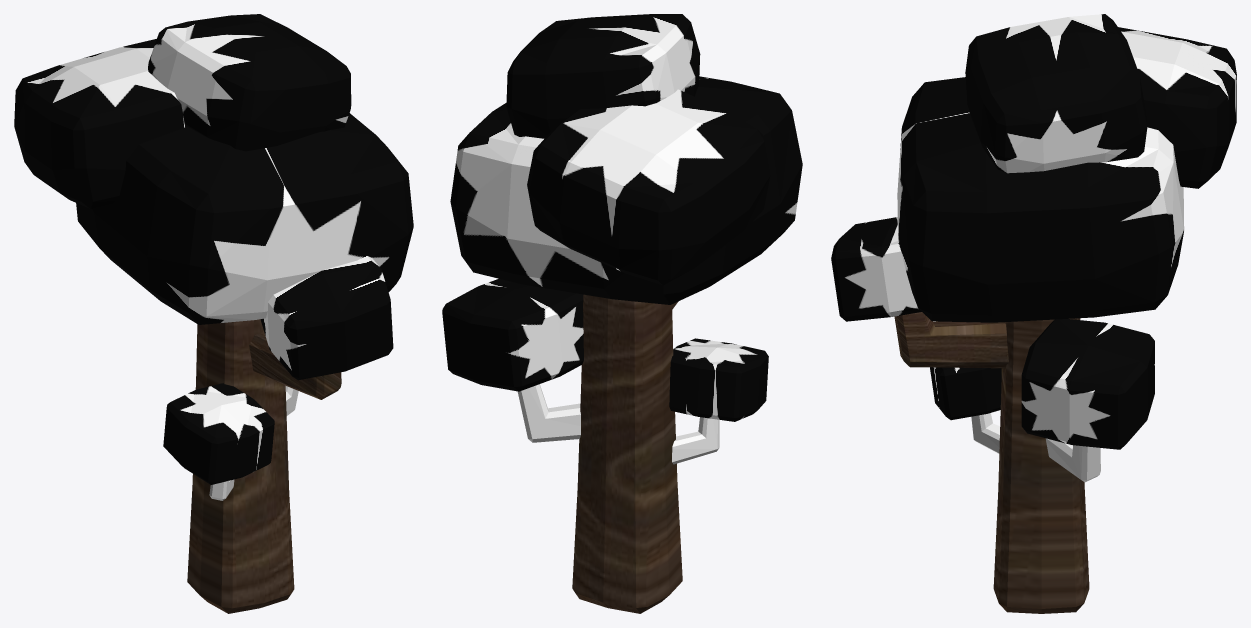
File: grassland_tree_SC_05_trees_red_SC_mat_0_modifed.gltf
3 renders of one model, left to right at view 1: azimuth 30°, elevation 25°; view 2: azimuth 150°, elevation 25°; view 3: azimuth 270°, elevation 25°, orthographic. The views are drawn at different scales.
Visible parts, largest first — view 1: grassland_tree_SC_05_trees_red_SC_mat_0; view 2: grassland_tree_SC_05_trees_red_SC_mat_0; view 3: grassland_tree_SC_05_trees_red_SC_mat_0.
Boxes of the visible parts, x1,y1,x2,y2 form: grassland_tree_SC_05_trees_red_SC_mat_0: [14, 14, 413, 613]; grassland_tree_SC_05_trees_red_SC_mat_0: [442, 14, 802, 613]; grassland_tree_SC_05_trees_red_SC_mat_0: [831, 14, 1236, 613].
Bounding box in the file's own units: 97.86 × 176 × 115.
Materials: 3 (2 with a texture image).
